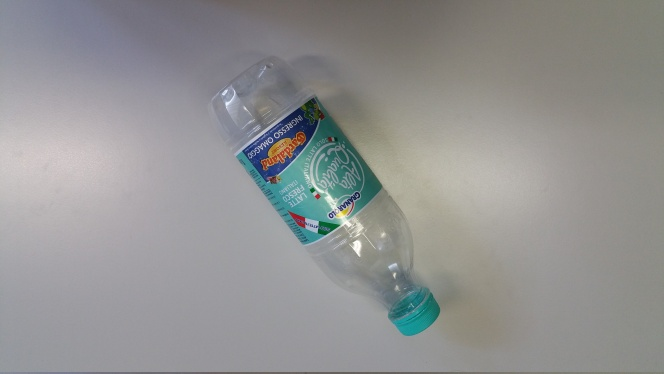bottle: (203, 46, 441, 338)
